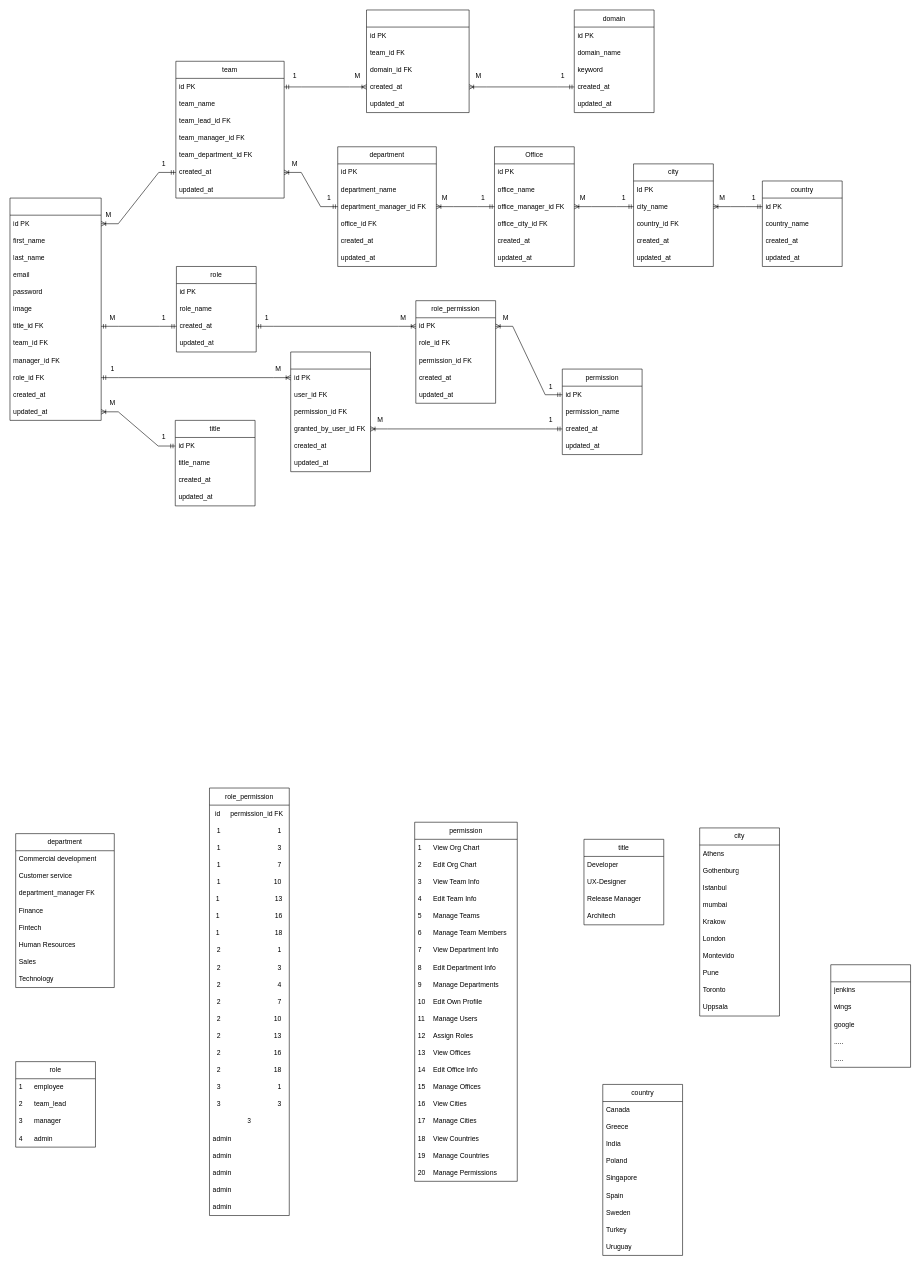
This 921x1265 diagram has some shape labels left out. Here are the shapes that lost their labels. From the top down, the box of each, then its label:
(366, 9, 469, 113): team_domain
(9, 198, 101, 420): user
(290, 351, 370, 472): user_extra_permission
(830, 964, 911, 1067): domain_responsibilities
